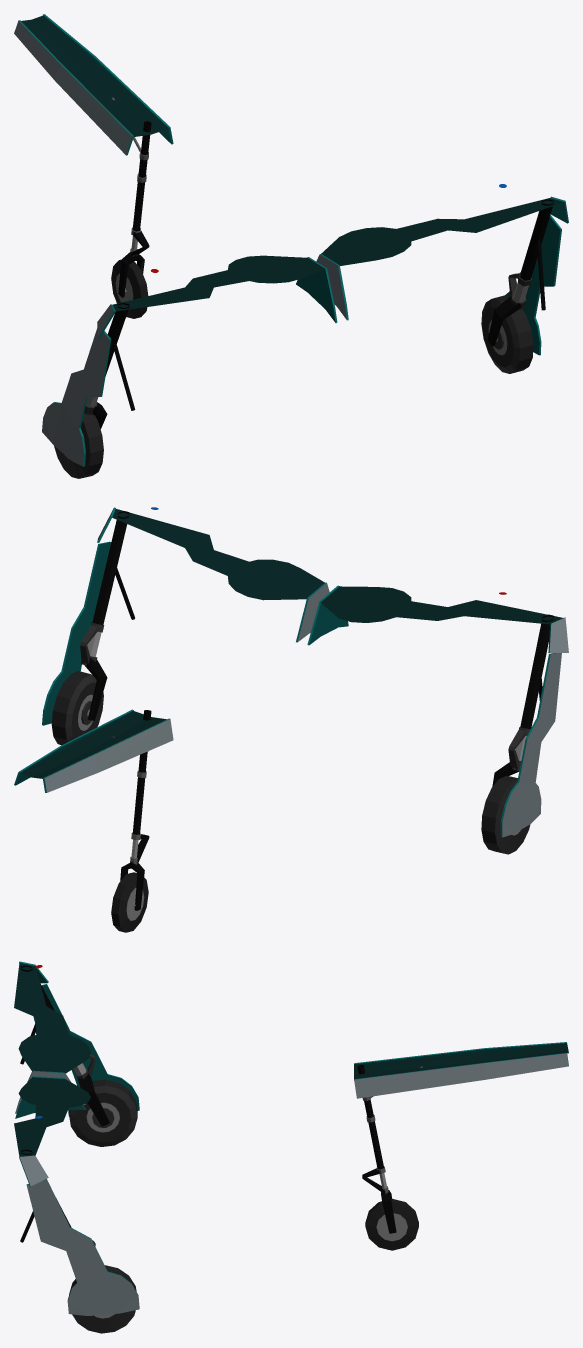
Rendered from Gear_shinden.obj.
3 views of the same model, one above another, from view 1: azimuth 30°, elevation 25°; view 2: azimuth 150°, elevation 25°; view 3: azimuth 270°, elevation 25° (orthographic). The views are drawn at different scales.
Parts seen in each view (by area): view 1: ShapeIndexedFaceSet.121_ShapeIndexedFaceSet.122, ShapeIndexedFaceSet.087_ShapeIndexedFaceSet.088, ShapeIndexedFaceSet.081_ShapeIndexedFaceSet.082, ShapeIndexedFaceSet.105_ShapeIndexedFaceSet.106, ShapeIndexedFaceSet.101_ShapeIndexedFaceSet.102, ShapeIndexedFaceSet.078_ShapeIndexedFaceSet.079, ShapeIndexedFaceSet.103_ShapeIndexedFaceSet.104, ShapeIndexedFaceSet.099_ShapeIndexedFaceSet.100, ShapeIndexedFaceSet.110_ShapeIndexedFaceSet.111, ShapeIndexedFaceSet.088_ShapeIndexedFaceSet.089, ShapeIndexedFaceSet.107_ShapeIndexedFaceSet.108, ShapeIndexedFaceSet.090_ShapeIndexedFaceSet.091 (+3 smaller); view 2: ShapeIndexedFaceSet.121_ShapeIndexedFaceSet.122, ShapeIndexedFaceSet.087_ShapeIndexedFaceSet.088, ShapeIndexedFaceSet.081_ShapeIndexedFaceSet.082, ShapeIndexedFaceSet.105_ShapeIndexedFaceSet.106, ShapeIndexedFaceSet.101_ShapeIndexedFaceSet.102, ShapeIndexedFaceSet.090_ShapeIndexedFaceSet.091, ShapeIndexedFaceSet.078_ShapeIndexedFaceSet.079, ShapeIndexedFaceSet.103_ShapeIndexedFaceSet.104, ShapeIndexedFaceSet.088_ShapeIndexedFaceSet.089, ShapeIndexedFaceSet.099_ShapeIndexedFaceSet.100, ShapeIndexedFaceSet.089_ShapeIndexedFaceSet.090, ShapeIndexedFaceSet.077_ShapeIndexedFaceSet.078 (+4 smaller); view 3: ShapeIndexedFaceSet.121_ShapeIndexedFaceSet.122, ShapeIndexedFaceSet.098_ShapeIndexedFaceSet.099, ShapeIndexedFaceSet.084_ShapeIndexedFaceSet.085, ShapeIndexedFaceSet.092_ShapeIndexedFaceSet.093, ShapeIndexedFaceSet.077_ShapeIndexedFaceSet.078, ShapeIndexedFaceSet.096_ShapeIndexedFaceSet.097, ShapeIndexedFaceSet.078_ShapeIndexedFaceSet.079, ShapeIndexedFaceSet.094_ShapeIndexedFaceSet.095, ShapeIndexedFaceSet.100_ShapeIndexedFaceSet.101, ShapeIndexedFaceSet.090_ShapeIndexedFaceSet.091, ShapeIndexedFaceSet.082_ShapeIndexedFaceSet.083, ShapeIndexedFaceSet.079_ShapeIndexedFaceSet.080 (+1 smaller).
Part boxes in pixels (left/top/right/bottom): ShapeIndexedFaceSet.121_ShapeIndexedFaceSet.122: left=21, top=15, right=563, bottom=311; ShapeIndexedFaceSet.087_ShapeIndexedFaceSet.088: left=42, top=328, right=109, bottom=466; ShapeIndexedFaceSet.081_ShapeIndexedFaceSet.082: left=14, top=20, right=132, bottom=154; ShapeIndexedFaceSet.105_ShapeIndexedFaceSet.106: left=505, top=217, right=560, bottom=354; ShapeIndexedFaceSet.101_ShapeIndexedFaceSet.102: left=487, top=199, right=553, bottom=346; ShapeIndexedFaceSet.078_ShapeIndexedFaceSet.079: left=118, top=121, right=151, bottom=297; ShapeIndexedFaceSet.103_ShapeIndexedFaceSet.104: left=481, top=272, right=531, bottom=373; ShapeIndexedFaceSet.099_ShapeIndexedFaceSet.100: left=492, top=295, right=533, bottom=373; ShapeIndexedFaceSet.110_ShapeIndexedFaceSet.111: left=296, top=257, right=335, bottom=322; ShapeIndexedFaceSet.088_ShapeIndexedFaceSet.089: left=79, top=413, right=103, bottom=478; ShapeIndexedFaceSet.107_ShapeIndexedFaceSet.108: left=482, top=306, right=513, bottom=367; ShapeIndexedFaceSet.090_ShapeIndexedFaceSet.091: left=92, top=303, right=129, bottom=429; ShapeIndexedFaceSet.121_ShapeIndexedFaceSet.122: left=20, top=509, right=562, bottom=778; ShapeIndexedFaceSet.087_ShapeIndexedFaceSet.088: left=502, top=653, right=561, bottom=837; ShapeIndexedFaceSet.081_ShapeIndexedFaceSet.082: left=44, top=719, right=173, bottom=792; ShapeIndexedFaceSet.105_ShapeIndexedFaceSet.106: left=43, top=542, right=111, bottom=725; ShapeIndexedFaceSet.101_ShapeIndexedFaceSet.102: left=84, top=511, right=129, bottom=720; ShapeIndexedFaceSet.090_ShapeIndexedFaceSet.091: left=492, top=614, right=553, bottom=786; ShapeIndexedFaceSet.078_ShapeIndexedFaceSet.079: left=120, top=710, right=151, bottom=910; ShapeIndexedFaceSet.103_ShapeIndexedFaceSet.104: left=65, top=622, right=104, bottom=741; ShapeIndexedFaceSet.088_ShapeIndexedFaceSet.089: left=481, top=775, right=517, bottom=854; ShapeIndexedFaceSet.099_ShapeIndexedFaceSet.100: left=51, top=671, right=90, bottom=745; ShapeIndexedFaceSet.089_ShapeIndexedFaceSet.090: left=495, top=780, right=530, bottom=854; ShapeIndexedFaceSet.077_ShapeIndexedFaceSet.078: left=118, top=875, right=148, bottom=932; ShapeIndexedFaceSet.121_ShapeIndexedFaceSet.122: left=14, top=963, right=566, bottom=1156; ShapeIndexedFaceSet.098_ShapeIndexedFaceSet.099: left=26, top=1180, right=139, bottom=1315; ShapeIndexedFaceSet.084_ShapeIndexedFaceSet.085: left=354, top=1053, right=568, bottom=1098; ShapeIndexedFaceSet.092_ShapeIndexedFaceSet.093: left=69, top=1054, right=137, bottom=1146; ShapeIndexedFaceSet.077_ShapeIndexedFaceSet.078: left=365, top=1202, right=418, bottom=1250; ShapeIndexedFaceSet.096_ShapeIndexedFaceSet.097: left=75, top=1092, right=130, bottom=1142; ShapeIndexedFaceSet.078_ShapeIndexedFaceSet.079: left=357, top=1065, right=396, bottom=1233; ShapeIndexedFaceSet.094_ShapeIndexedFaceSet.095: left=33, top=984, right=139, bottom=1116; ShapeIndexedFaceSet.100_ShapeIndexedFaceSet.101: left=72, top=1271, right=135, bottom=1333; ShapeIndexedFaceSet.090_ShapeIndexedFaceSet.091: left=21, top=965, right=109, bottom=1126; ShapeIndexedFaceSet.082_ShapeIndexedFaceSet.083: left=354, top=1043, right=568, bottom=1064; ShapeIndexedFaceSet.079_ShapeIndexedFaceSet.080: left=376, top=1213, right=407, bottom=1241.
Size of the model in its own units: 51.94 by 24.65 by 59.73.
